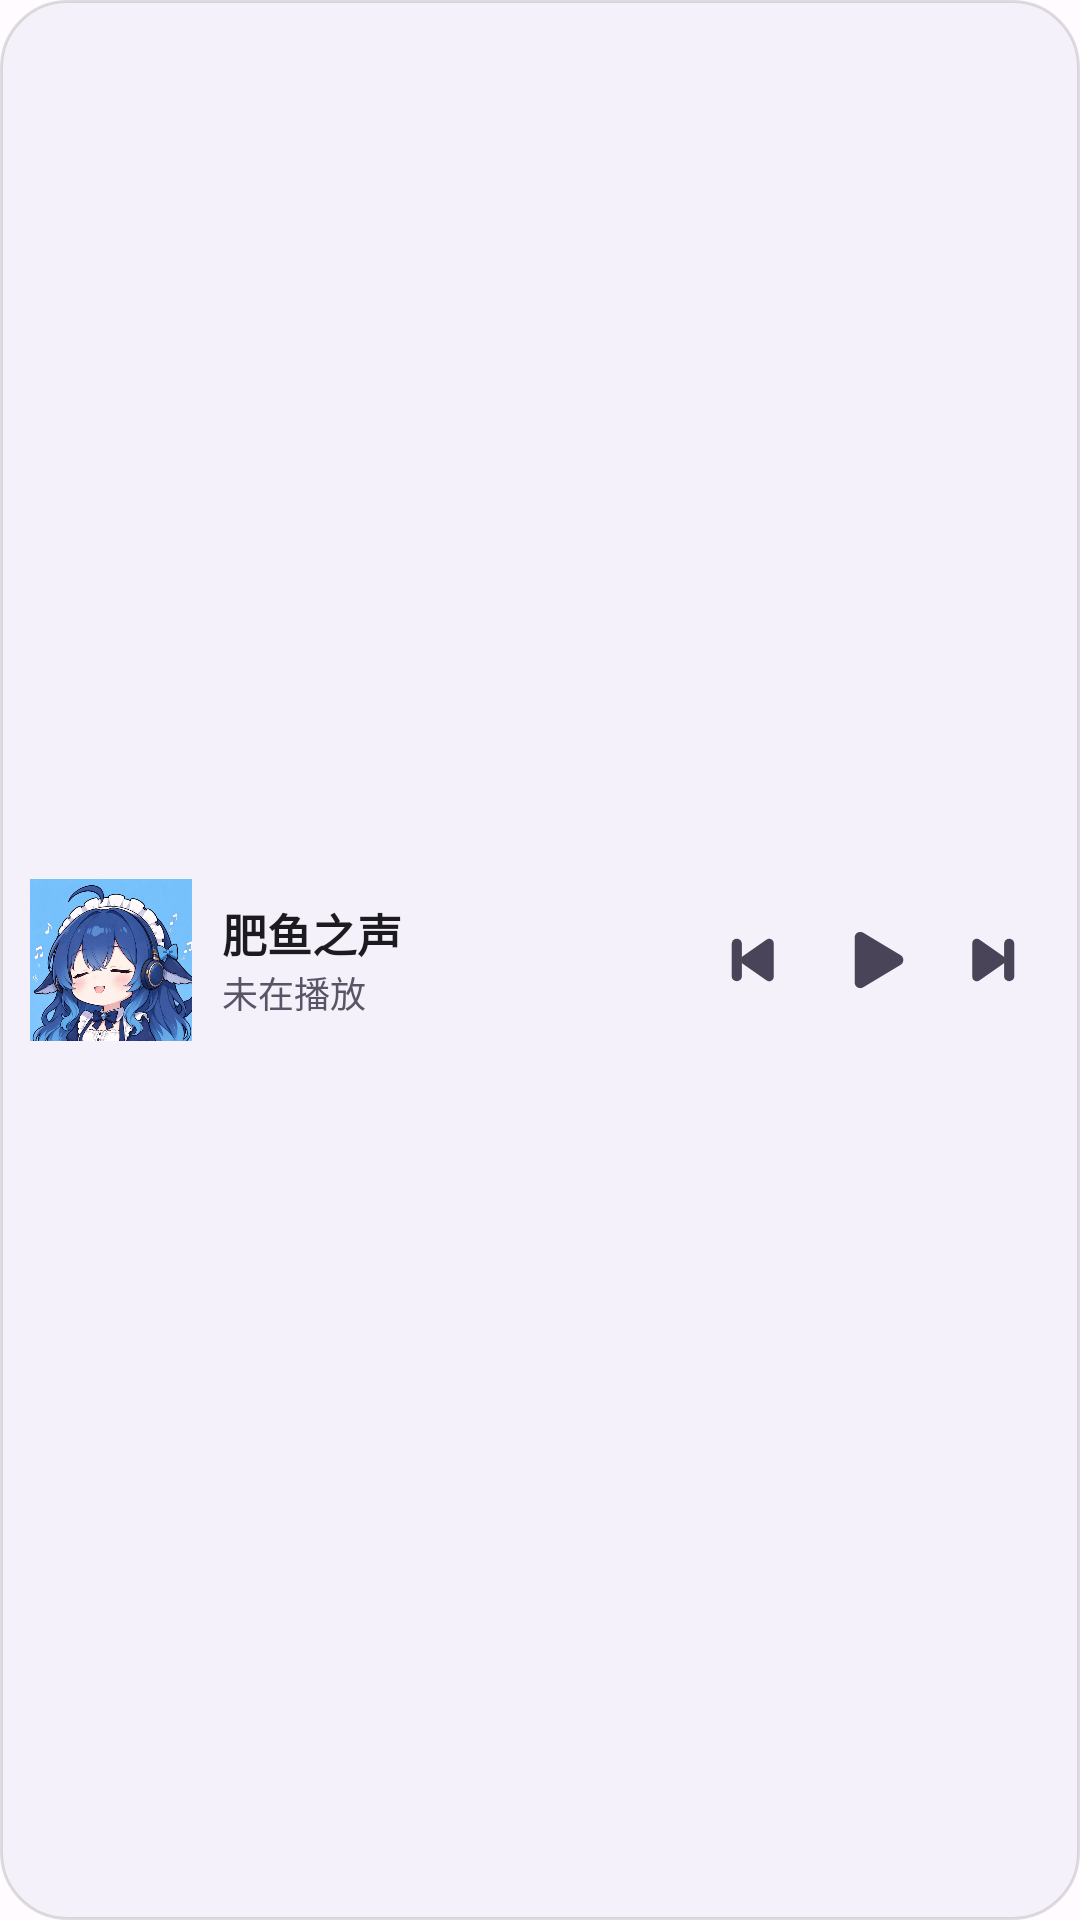

Screen size 1080 x 1920. Icon name, then its center in pixels as (x=x, y=y):
上一首: (x=752, y=960)
下一首: (x=993, y=960)
